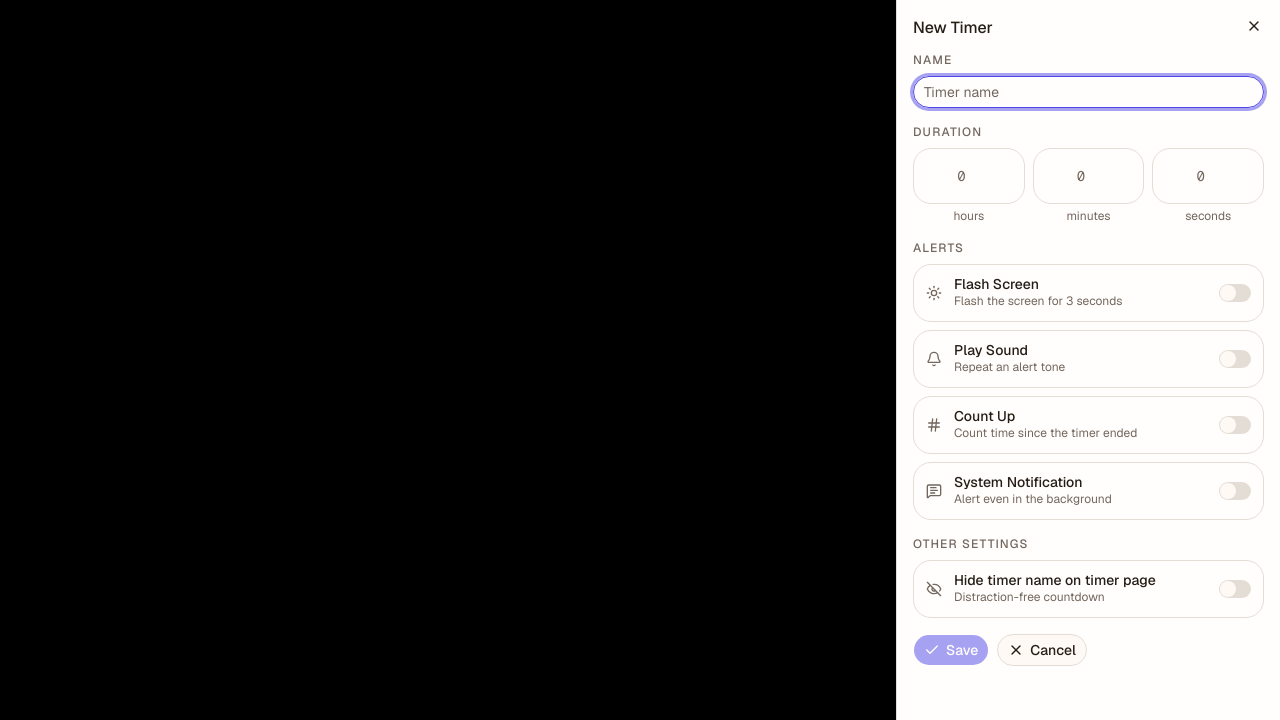
TimerFormSheet › discard confirmation › shows the discard confirmation dialog when Cancel is clicked with unsaved changes
The image size is (1280, 720).
Step 1. Type "My Timer" into the field named "Timer name" → (1088, 92), box [913, 76, 1264, 108]
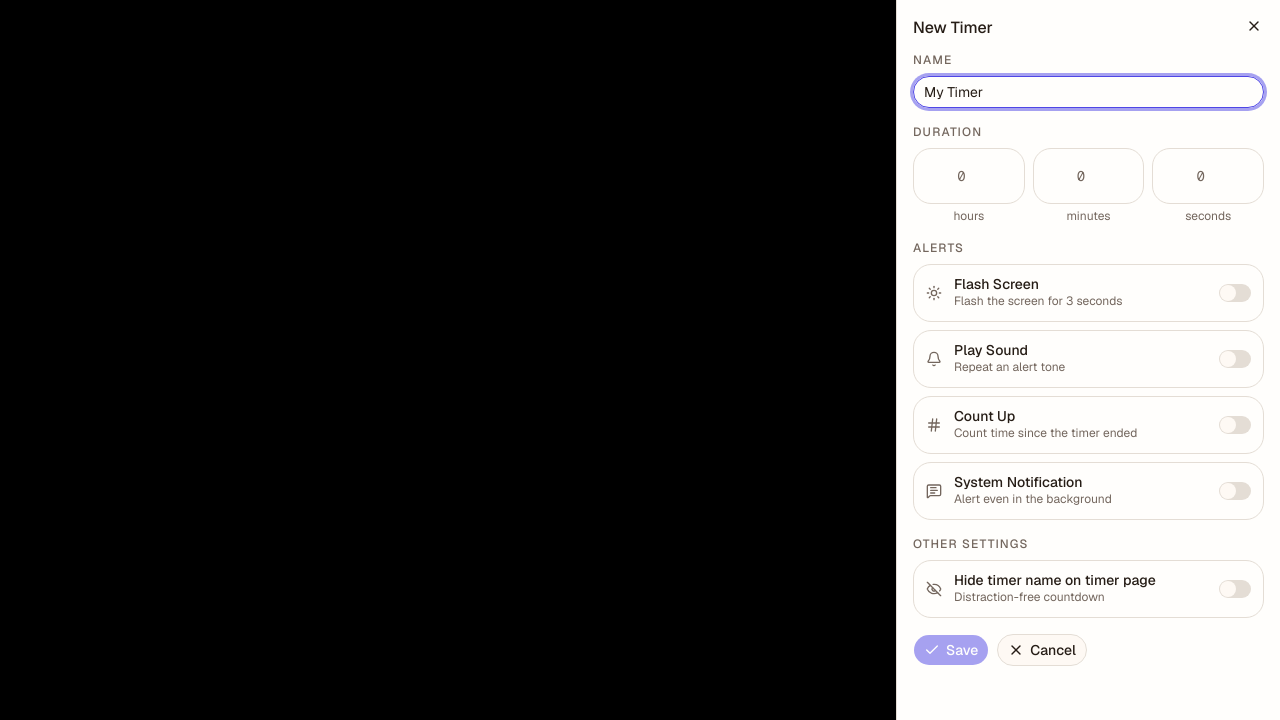
Step 2. Click the button "Cancel" → click(1042, 650), box [997, 634, 1087, 666]
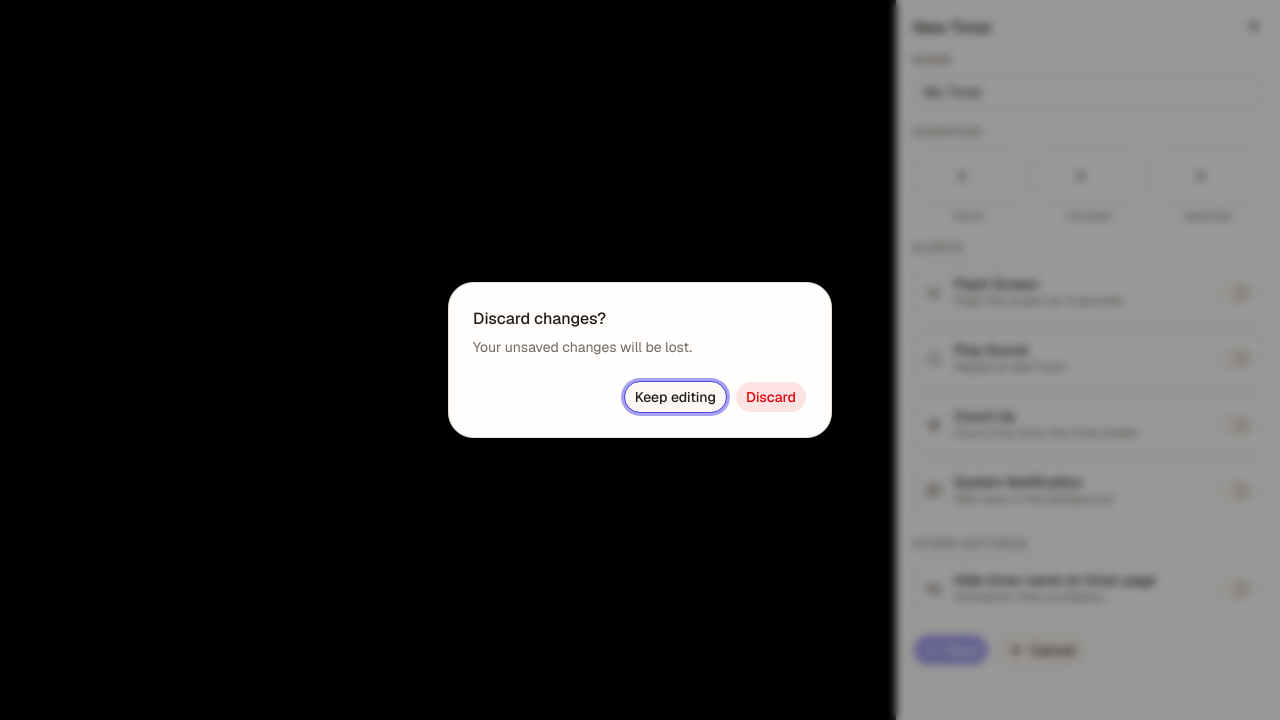
Expected: the dialog "Discard changes" is shown, [448, 282, 832, 438]
